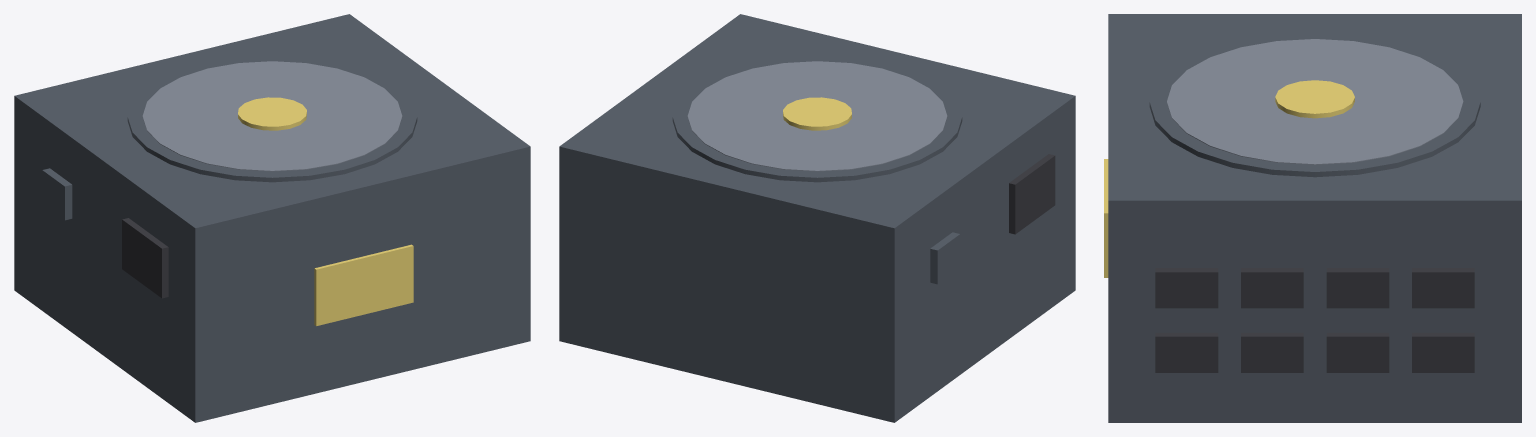
The model's file is psu.glb.
3 renders of one model, left to right at view 1: azimuth 30°, elevation 25°; view 2: azimuth 150°, elevation 25°; view 3: azimuth 270°, elevation 25°, orthographic. The views are drawn at different scales.
Parts seen in each view (by area): view 1: PSU_Chassis, Wire_Ring_0.5199999999999999, Fan_Recess, Gold_Emblem_Side, Wire_Ring_0.42999999999999994, Wire_Ring_0.33999999999999997, AC_Inlet_Plug, Wire_Ring_0.25, Fan_Center_Badge, Power_Rocker_Switch; view 2: PSU_Chassis, Wire_Ring_0.5199999999999999, Fan_Recess, Wire_Ring_0.42999999999999994, Wire_Ring_0.33999999999999997, AC_Inlet_Plug, Wire_Ring_0.25, Fan_Center_Badge, Power_Rocker_Switch; view 3: PSU_Chassis, Wire_Ring_0.5199999999999999, Wire_Ring_0.42999999999999994, Fan_Recess, Wire_Ring_0.33999999999999997, Wire_Ring_0.25, Modular_Socket_0_3, Modular_Socket_1_3, Modular_Socket_0_1, Modular_Socket_1_1, Modular_Socket_0_0, Modular_Socket_0_2 (+4 smaller).
Boxes of the visible parts, x1,y1,x2,y2 form: PSU_Chassis: (14,14,530,422); Wire_Ring_0.5199999999999999: (142,61,402,171); Fan_Recess: (127,55,417,182); Gold_Emblem_Side: (314,244,413,326); Wire_Ring_0.42999999999999994: (165,70,376,160); Wire_Ring_0.33999999999999997: (187,80,355,151); AC_Inlet_Plug: (122,218,168,298); Wire_Ring_0.25: (210,90,332,142); Fan_Center_Badge: (238,97,306,130); Power_Rocker_Switch: (42,168,72,220); PSU_Chassis: (559,14,1075,422); Wire_Ring_0.5199999999999999: (687,61,947,171); Fan_Recess: (672,55,962,182); Wire_Ring_0.42999999999999994: (712,71,924,160); Wire_Ring_0.33999999999999997: (733,80,902,151); AC_Inlet_Plug: (1009,154,1055,234); Wire_Ring_0.25: (758,90,879,142); Fan_Center_Badge: (783,97,851,130); Power_Rocker_Switch: (930,232,960,284); PSU_Chassis: (1108,14,1521,422); Wire_Ring_0.5199999999999999: (1167,39,1463,164); Wire_Ring_0.42999999999999994: (1192,50,1437,151); Fan_Recess: (1149,32,1480,177); Wire_Ring_0.33999999999999997: (1218,60,1411,142); Wire_Ring_0.25: (1244,71,1386,131); Modular_Socket_0_3: (1155,332,1218,372); Modular_Socket_1_3: (1155,268,1218,308); Modular_Socket_0_1: (1326,332,1389,372); Modular_Socket_1_1: (1326,268,1389,308); Modular_Socket_0_0: (1412,332,1474,372); Modular_Socket_0_2: (1241,332,1303,372).
Bounding box in the file's own units: 1.62 × 0.9 × 1.47.
